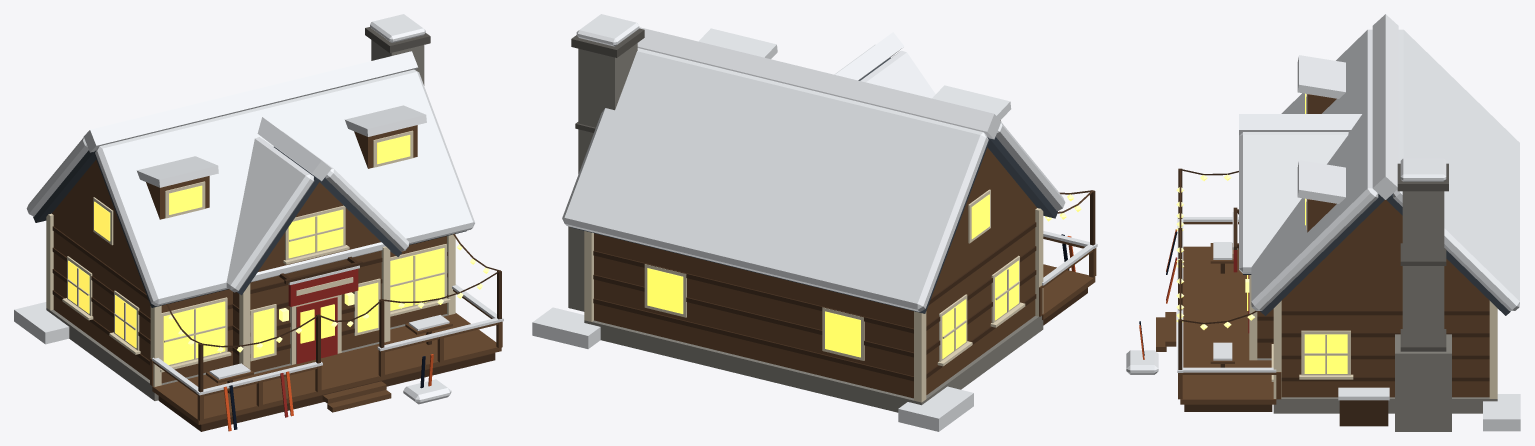
Rendered from apres-bar.glb.
3 renders of one model, left to right at view 1: azimuth 30°, elevation 25°; view 2: azimuth 150°, elevation 25°; view 3: azimuth 270°, elevation 25°, orthographic. The views are drawn at different scales.
Parts seen in each view (by area): view 1: apres-bar; view 2: apres-bar; view 3: apres-bar.
Boxes of the visible parts, bbox=[...] form: apres-bar: bbox=[14, 14, 503, 431]; apres-bar: bbox=[532, 14, 1097, 431]; apres-bar: bbox=[1126, 14, 1520, 431].
Size of the model in its own units: 15.95 by 10.4 by 14.6.
